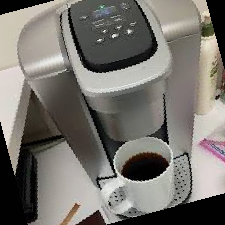10oz: (110, 32, 120, 39)
12oz: (124, 28, 134, 35)
4oz: (100, 28, 110, 35)
6oz: (114, 24, 124, 31)
8oz: (95, 36, 104, 43)
coffee_handle: (107, 70, 166, 100)
water_handle: (28, 67, 70, 84)
